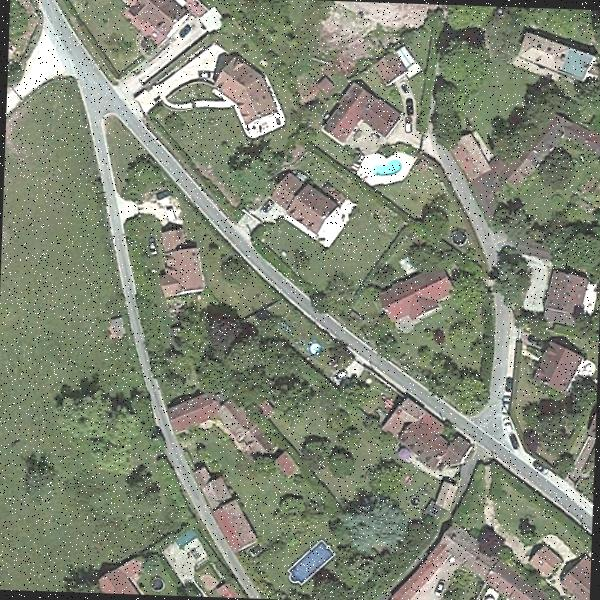Buildings: (220, 55, 278, 120), (327, 88, 392, 144), (394, 419, 472, 461), (386, 274, 452, 320), (271, 179, 337, 224), (527, 38, 597, 80), (125, 0, 188, 40), (163, 235, 198, 294), (536, 345, 582, 389), (93, 556, 140, 594), (172, 396, 211, 431), (546, 278, 582, 312), (372, 49, 408, 81), (563, 556, 589, 600), (530, 546, 560, 576), (220, 514, 245, 546)
